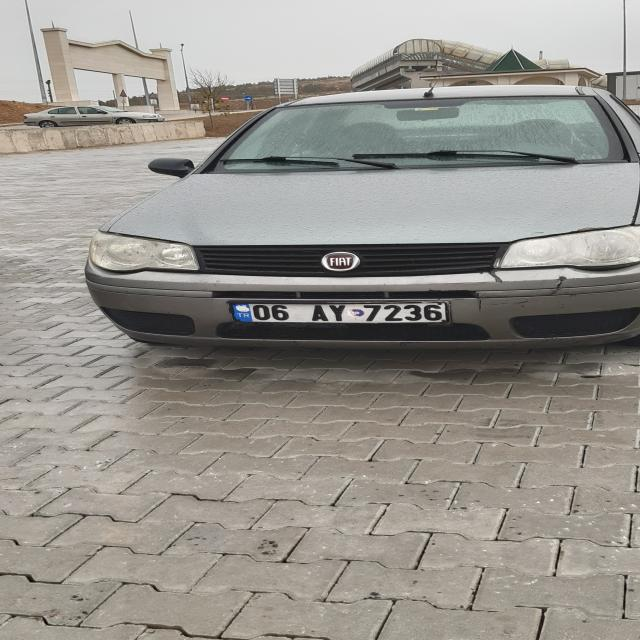plate: (229, 303, 450, 324)
